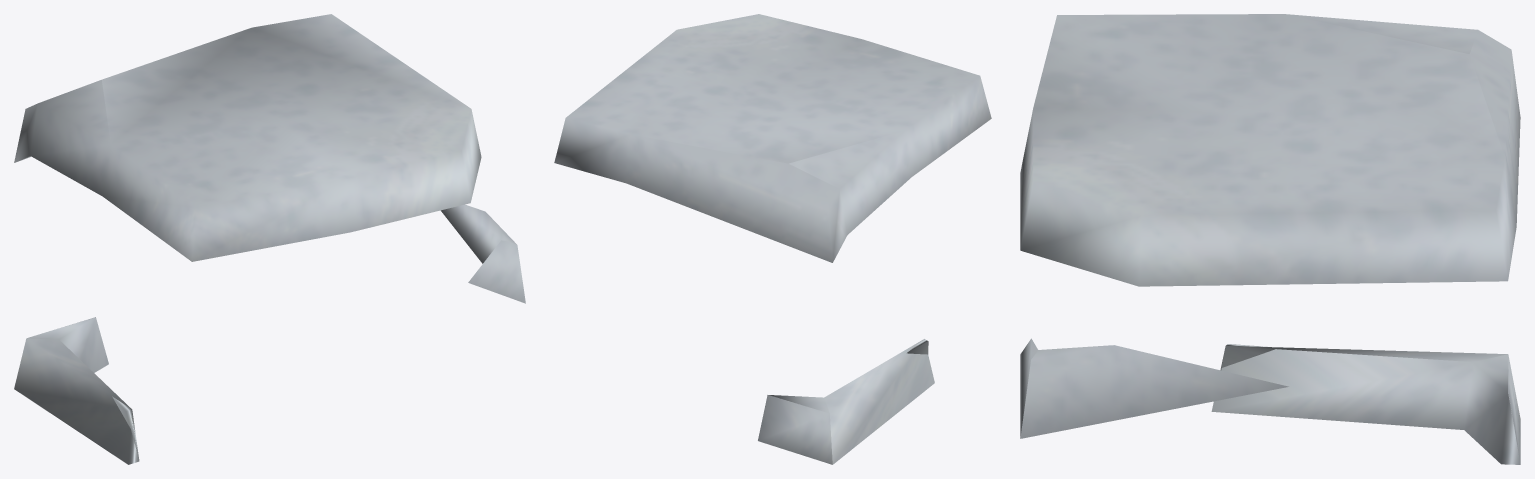
File: Temple_Stone_7_Snow.fbx
The picture shows the model from 3 angles, left to right: view 1: azimuth 30°, elevation 25°; view 2: azimuth 150°, elevation 25°; view 3: azimuth 270°, elevation 25°; orthographic projection. The views are drawn at different scales.
Visible parts, largest first — view 1: Temple_Stone_7_Snow; view 2: Temple_Stone_7_Snow; view 3: Temple_Stone_7_Snow.
Part boxes in pixels (x1=…): Temple_Stone_7_Snow: x1=14, y1=14, x2=525, y2=464; Temple_Stone_7_Snow: x1=554, y1=14, x2=991, y2=464; Temple_Stone_7_Snow: x1=1020, y1=14, x2=1520, y2=464.
Bounding box in the file's own units: 100 × 91.04 × 100.
